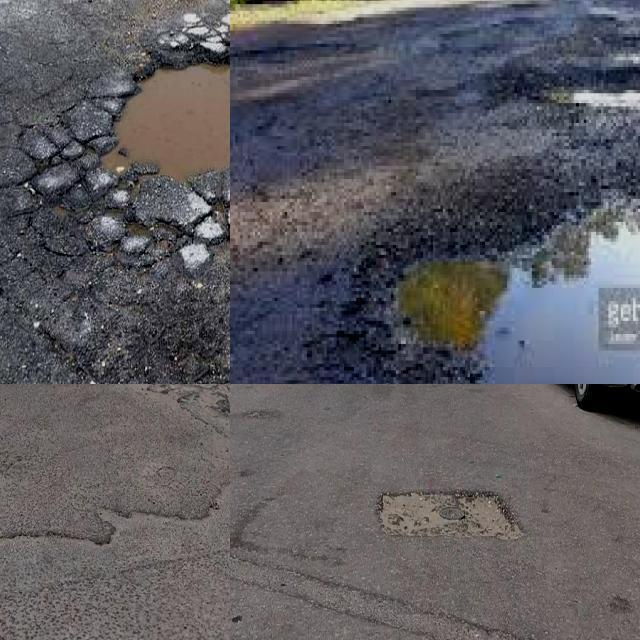Pothole: (393, 179, 640, 384), (98, 42, 230, 201), (379, 486, 516, 534)
